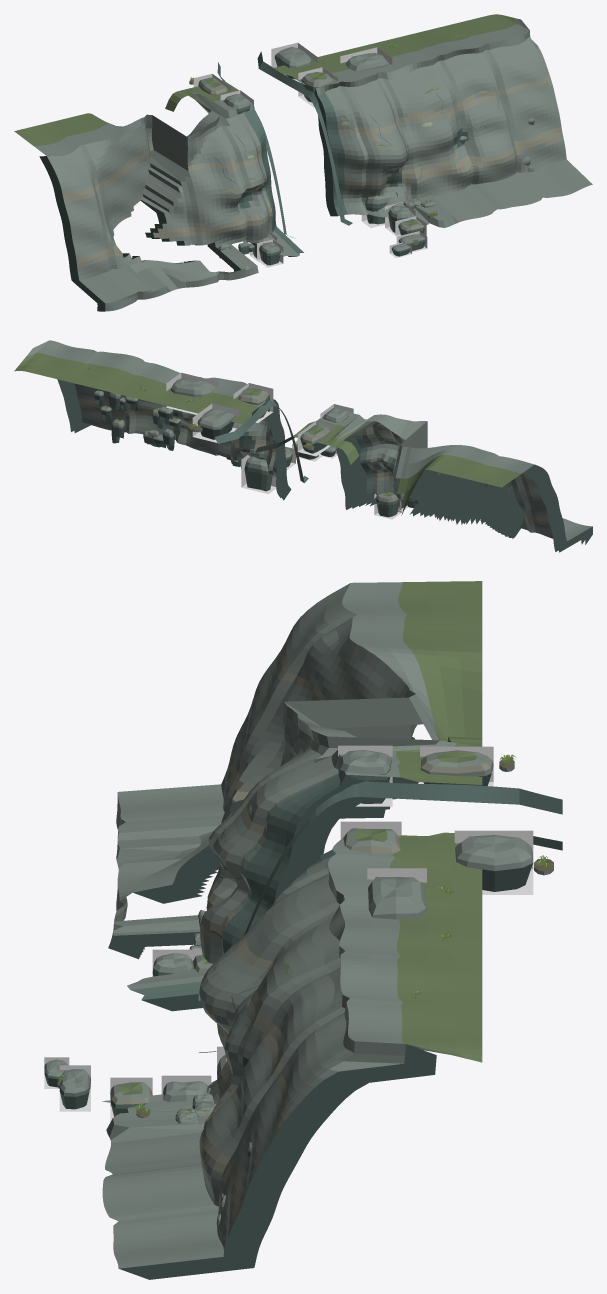
Rendered from silverveil-gorge.glb.
3 renders of one model, top to bottom at view 1: azimuth 30°, elevation 25°; view 2: azimuth 150°, elevation 25°; view 3: azimuth 270°, elevation 25°, orthographic. The views are drawn at different scales.
Visible parts, largest first — view 1: GEO_Silverveil_stone, GEO_Silverveil_warm, GEO_Silverveil_moss, GEO_Silverveil_wet, GEO_Silverveil_shadow; view 2: GEO_Silverveil_stone, GEO_Silverveil_shadow, GEO_Silverveil_moss, GEO_Silverveil_wet, GEO_Silverveil_warm, COL_Upstream_East, COL_Eastern_Lookout, COL_Upstream_West, COL_Basin_Rim_4, COL_Lip_East; view 3: GEO_Silverveil_stone, GEO_Silverveil_moss, GEO_Silverveil_shadow, GEO_Silverveil_wet, GEO_Silverveil_warm, COL_Upstream_East.
Part boxes in pixels (left/top/right/bottom): GEO_Silverveil_stone: left=34, top=18, right=592, bottom=311; GEO_Silverveil_warm: left=62, top=74, right=563, bottom=267; GEO_Silverveil_moss: left=14, top=14, right=516, bottom=238; GEO_Silverveil_wet: left=217, top=51, right=436, bottom=265; GEO_Silverveil_shadow: left=39, top=58, right=534, bottom=311; GEO_Silverveil_stone: left=26, top=340, right=592, bottom=541; GEO_Silverveil_shadow: left=57, top=379, right=592, bottom=552; GEO_Silverveil_moss: left=14, top=352, right=520, bottom=515; GEO_Silverveil_wet: left=214, top=395, right=416, bottom=517; GEO_Silverveil_warm: left=77, top=392, right=549, bottom=526; COL_Upstream_East: left=192, top=403, right=238, bottom=442; COL_Eastern_Lookout: left=166, top=372, right=218, bottom=414; COL_Upstream_West: left=297, top=421, right=334, bottom=456; COL_Basin_Rim_4: left=241, top=455, right=276, bottom=494; COL_Lip_East: left=233, top=383, right=273, bottom=422; GEO_Silverveil_stone: left=45, top=582, right=553, bottom=1268; GEO_Silverveil_moss: left=120, top=581, right=482, bottom=1152; GEO_Silverveil_shadow: left=108, top=737, right=532, bottom=1279; GEO_Silverveil_wet: left=44, top=760, right=562, bottom=1123; GEO_Silverveil_warm: left=111, top=635, right=492, bottom=1221; COL_Upstream_East: left=454, top=830, right=533, bottom=894.
Size of the model in its own units: 183 by 46.5 by 84.02.
